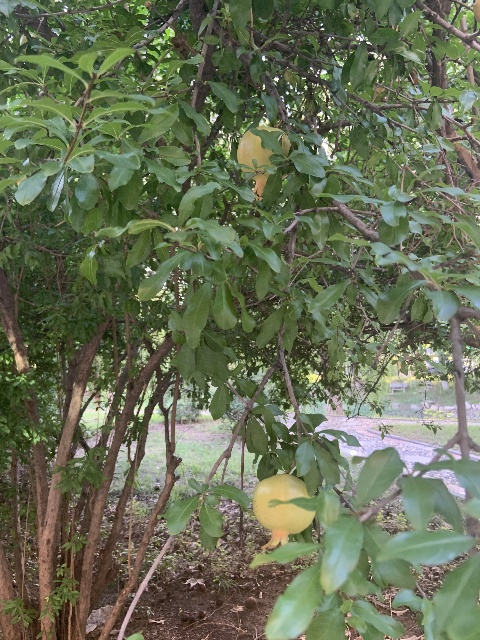mid-growth: (252, 473, 315, 549), (236, 126, 290, 200)
